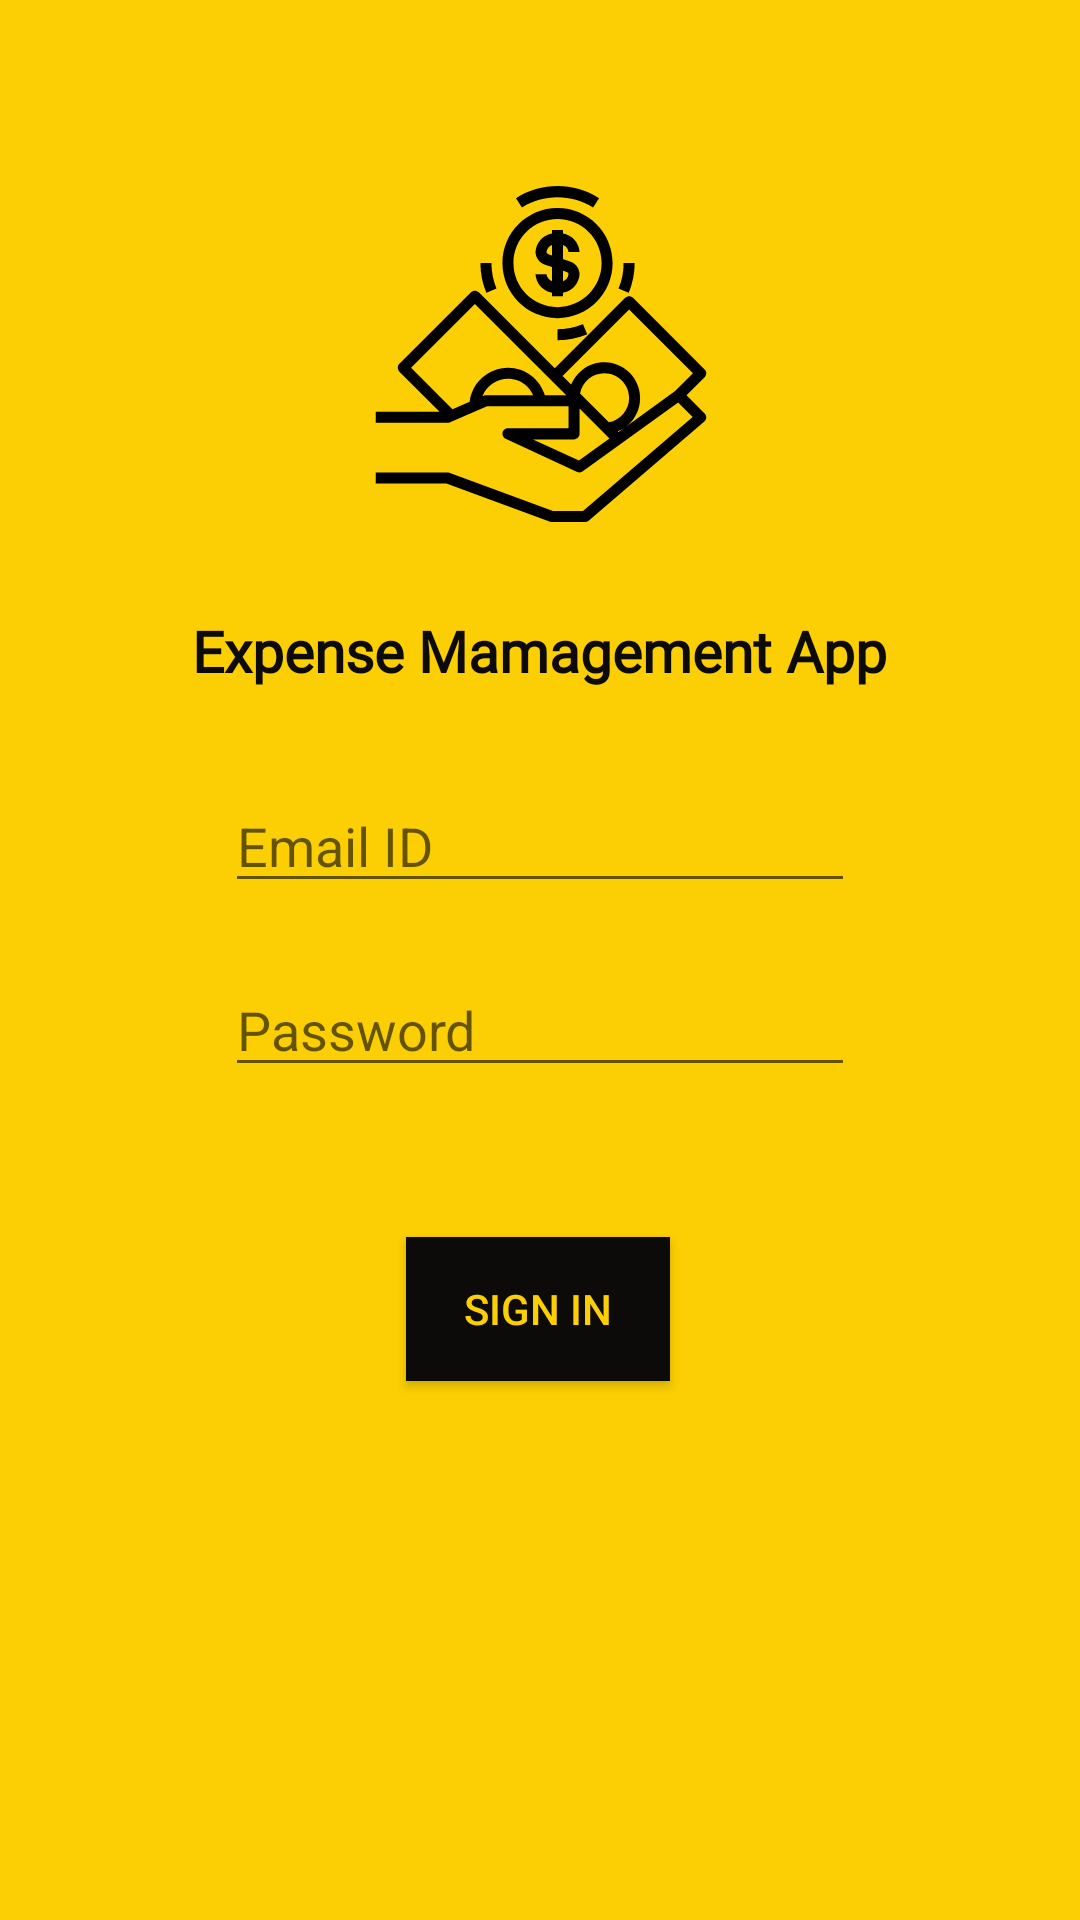

Screen size 1080 x 1920. Icon name, then its box in pixels as (x1=x1, y1=y1, x2=x2, y2=y2):
money: (x1=375, y1=186, x2=707, y2=522)
